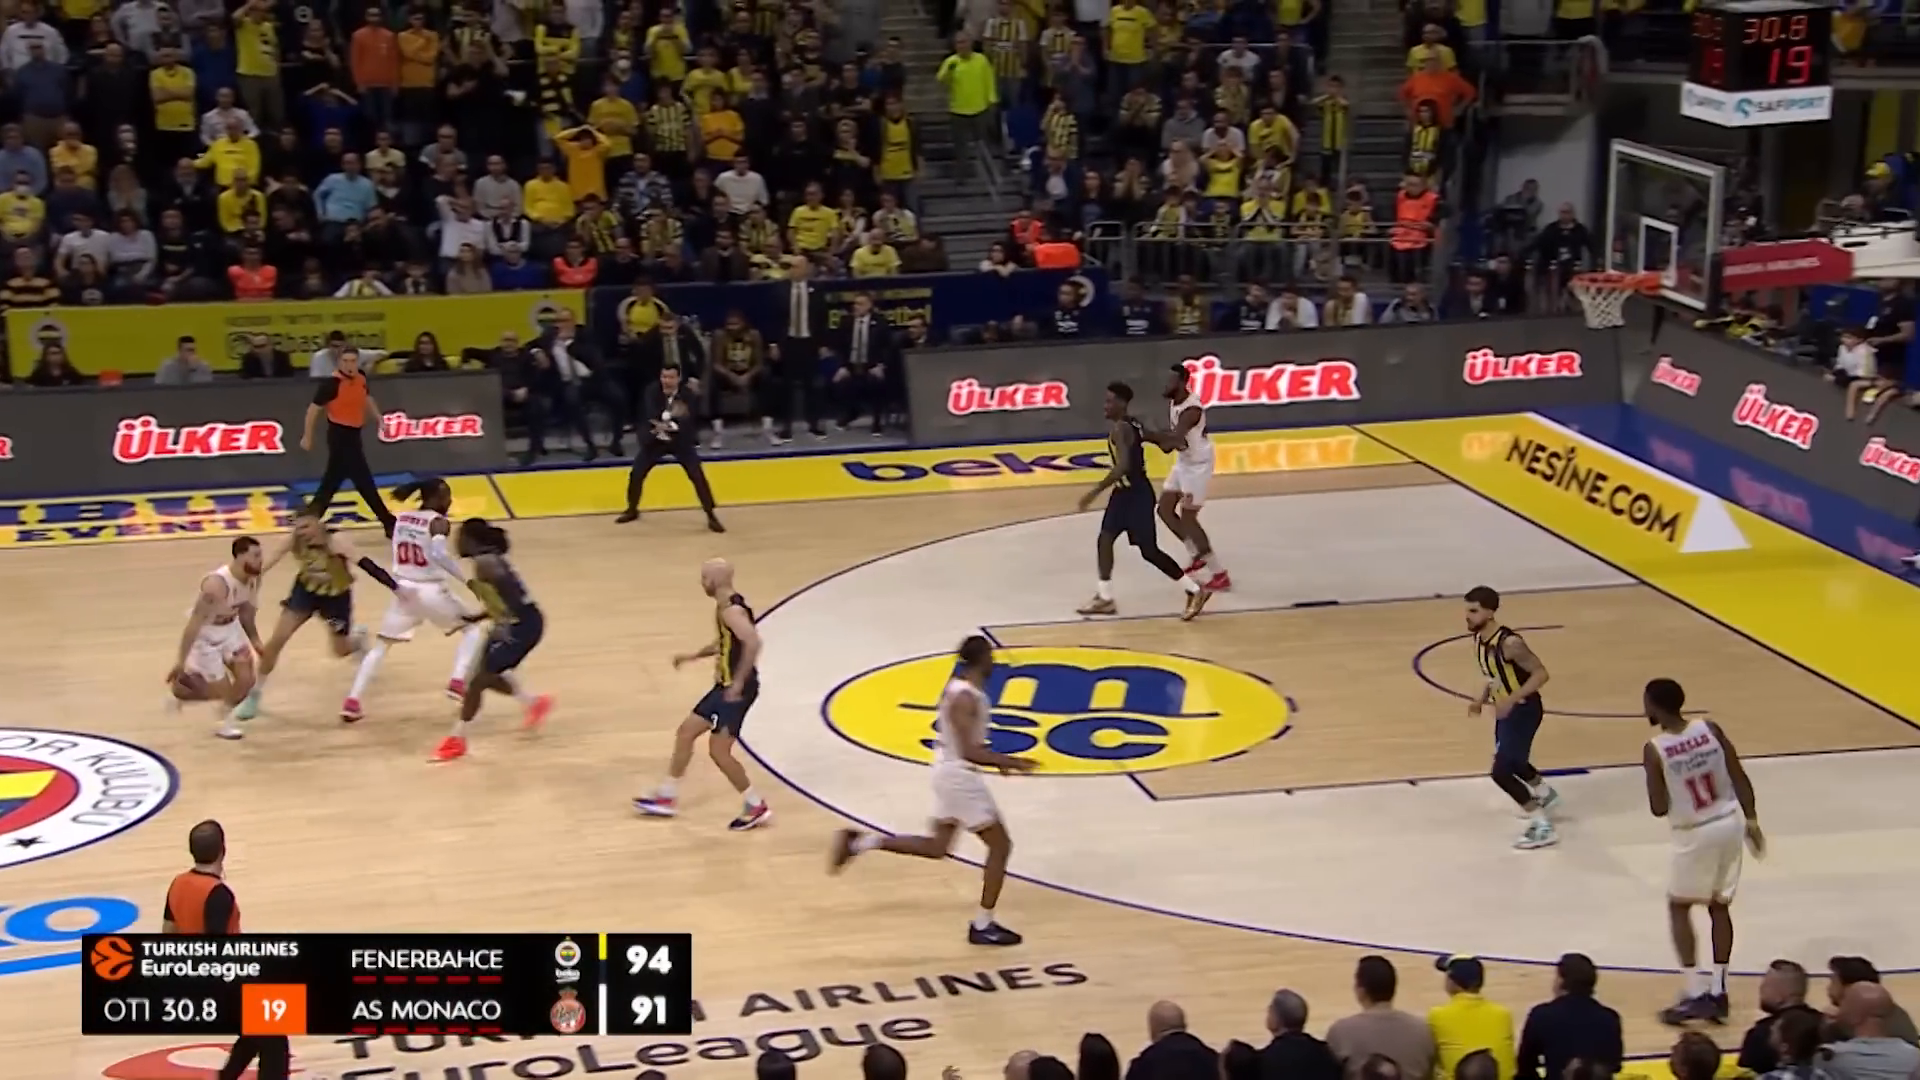ball: (170, 665, 210, 705)
net: (1568, 268, 1635, 330)
